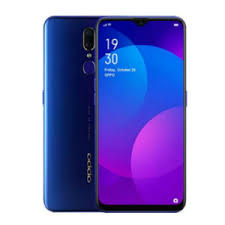oppo: (42, 11, 186, 214)
